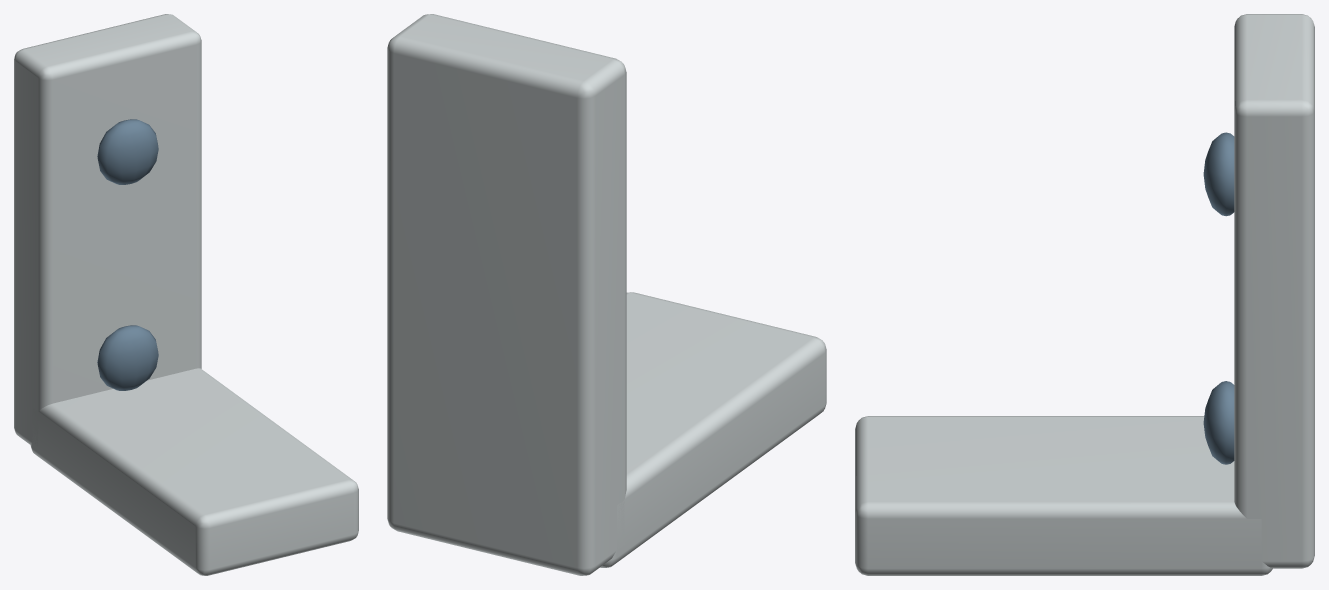
The model's file is Bracket.fbx.
The picture shows the model from 3 angles, left to right: view 1: azimuth 30°, elevation 25°; view 2: azimuth 150°, elevation 25°; view 3: azimuth 270°, elevation 25°; orthographic projection. The views are drawn at different scales.
Visible parts, largest first — view 1: Vertical, Horizontal, Screw.001, Screw; view 2: Vertical, Horizontal; view 3: Horizontal, Vertical, Screw, Screw.001.
Part boxes in pixels (box(x1,y1,x2,y2)): Vertical: box(14, 14, 201, 445); Horizontal: box(30, 368, 358, 575); Screw.001: box(97, 119, 158, 184); Screw: box(97, 325, 158, 390); Vertical: box(387, 14, 626, 575); Horizontal: box(600, 292, 826, 567); Horizontal: box(855, 416, 1272, 575); Vertical: box(1234, 14, 1314, 568); Screw: box(1203, 381, 1234, 464); Screw.001: box(1203, 132, 1234, 216).
Size of the model in its own units: 7 by 16.25 by 14.25.
